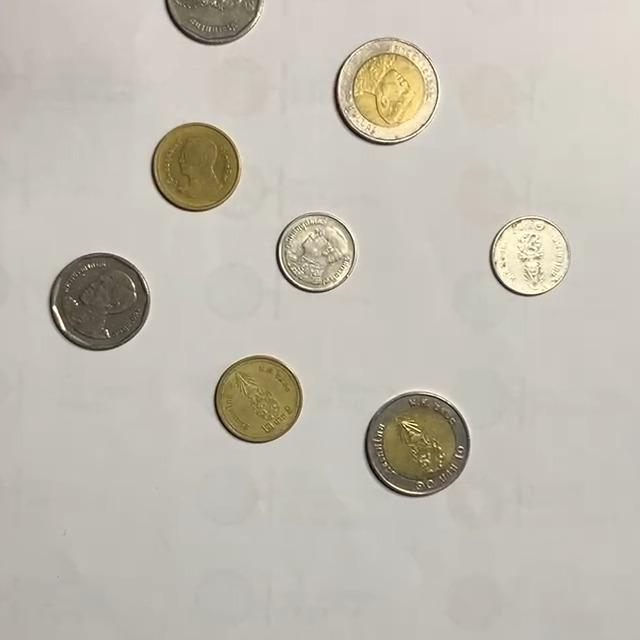1-baht: (490, 216, 573, 296), (278, 213, 358, 293)
10-baht: (335, 36, 441, 142), (366, 393, 473, 496)
2-baht: (151, 122, 242, 211), (214, 356, 303, 442)
5-baht: (50, 252, 152, 350), (164, 0, 265, 45)
